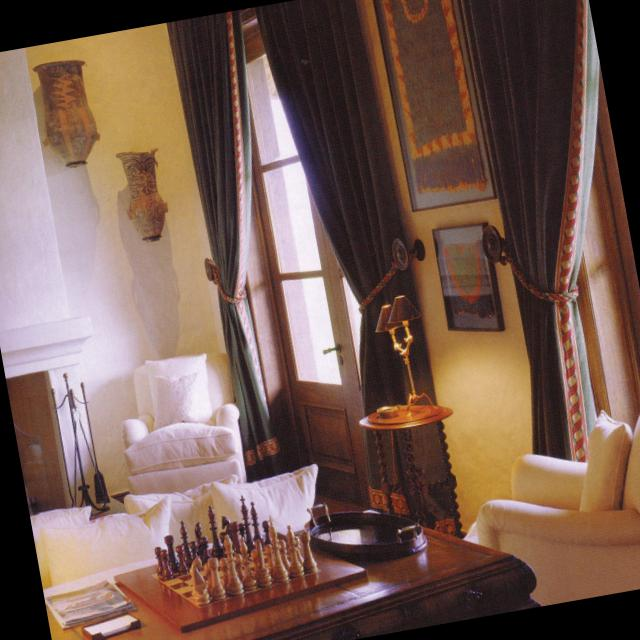2001: (246, 51, 341, 380)
armchair crop: (477, 408, 640, 600)
chess board: (115, 527, 367, 628)
chess pieces: (191, 516, 317, 603), (155, 493, 268, 579)
coffee table: (45, 504, 540, 640)
couch occluded: (33, 460, 320, 585)
curtain crop: (254, 0, 455, 533), (166, 9, 285, 474)
curtain occluded: (392, 234, 428, 268), (481, 223, 508, 265)
door knob: (322, 342, 340, 355)
doors crop: (244, 17, 367, 497)
fireplace: (51, 370, 111, 515)
fireplace mantle: (9, 371, 64, 509)
lamp crop: (375, 291, 438, 413)
magazine holder: (45, 582, 136, 626)
mantle: (0, 313, 94, 376)
notecards: (77, 608, 140, 640)
picture crop: (372, 0, 496, 209), (431, 219, 506, 330)
platter of food: (309, 503, 427, 559)
recliner: (121, 350, 245, 491)
side: (358, 401, 463, 534)
small metal bowl: (376, 403, 397, 418)
urtain: (466, 0, 599, 458)
wall clock: (0, 23, 248, 512)
wall decoration -x: (115, 145, 170, 240)
wall fixture: (32, 59, 100, 166)
